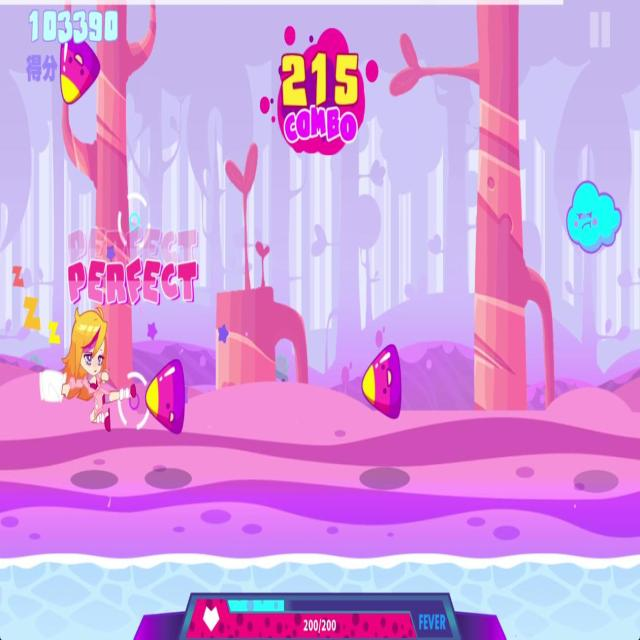jian: (359, 337, 405, 425), (58, 25, 104, 110), (144, 353, 187, 437)
yun: (566, 175, 623, 257)
